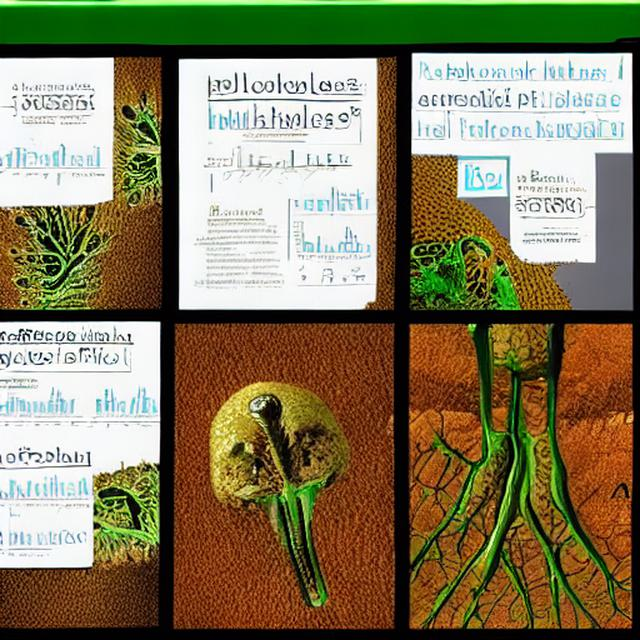Graph: (228, 131, 323, 186), (291, 211, 373, 265)
